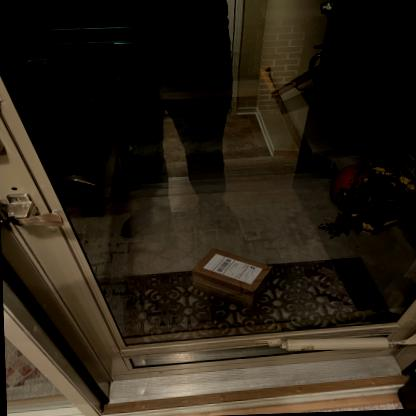box: (189, 246, 274, 307)
